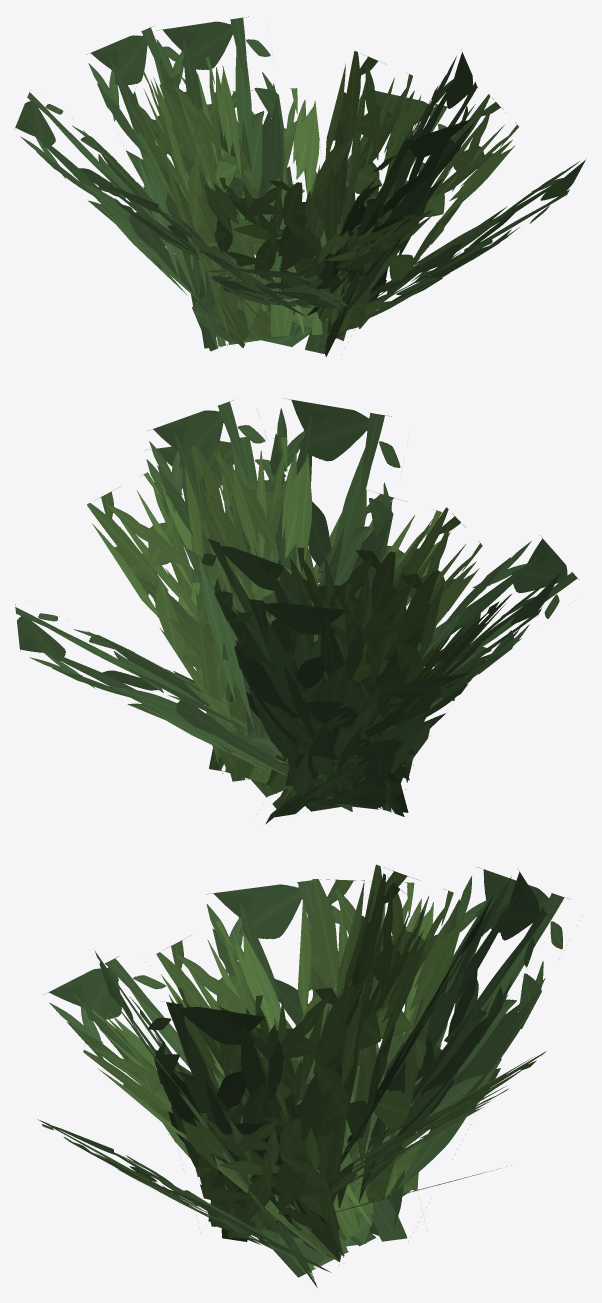
File: nature.bush.fern.glb
3 renders of one model, top to bottom at view 1: azimuth 30°, elevation 25°; view 2: azimuth 150°, elevation 25°; view 3: azimuth 270°, elevation 25°, orthographic. The views are drawn at different scales.
Parts seen in each view (by area): view 1: nature.bush.fern; view 2: nature.bush.fern; view 3: nature.bush.fern.
Boxes of the visible parts, x1,y1,x2,y2 form: nature.bush.fern: [14, 16, 586, 356]; nature.bush.fern: [15, 398, 578, 824]; nature.bush.fern: [37, 864, 577, 1287].
Bounding box in the file's own units: 2.31 × 1.33 × 2.18.
Materials: 2 (2 with a texture image).
